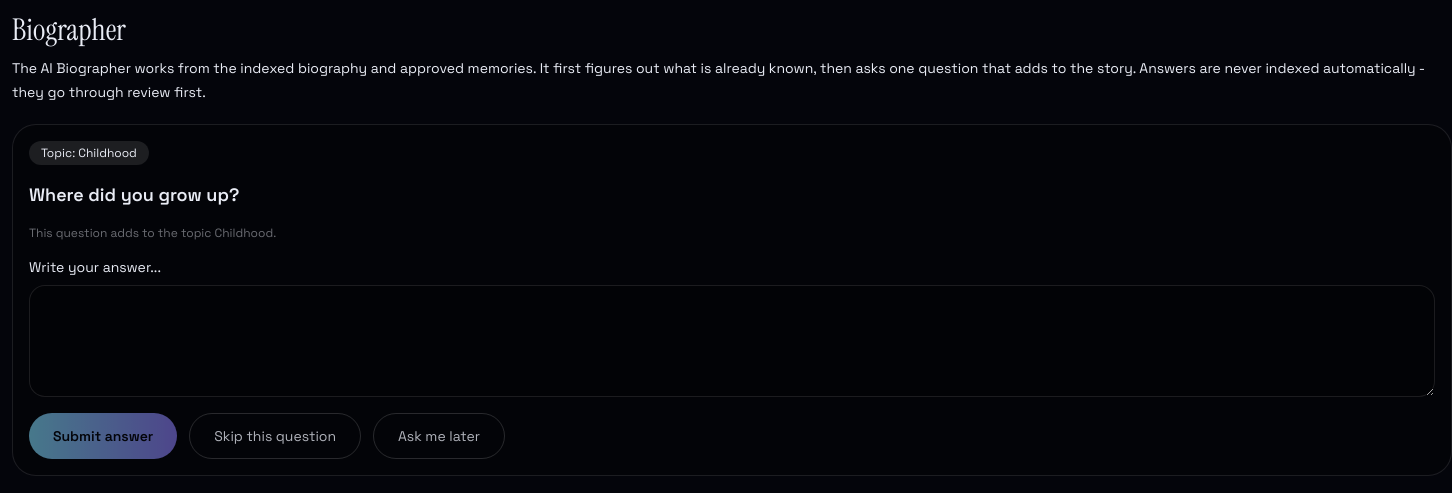
Scenario: BiographerPanel › shows the active question with a localized topic label and lets the owner answer it
This screenshot has width=1452, height=493.
Expected: the text "Where did you grow up?" is shown, [29,183,239,206]
Type "In a small village." into the text box labelled "Write your answer..." at (732, 341), box [29,285,1435,397]
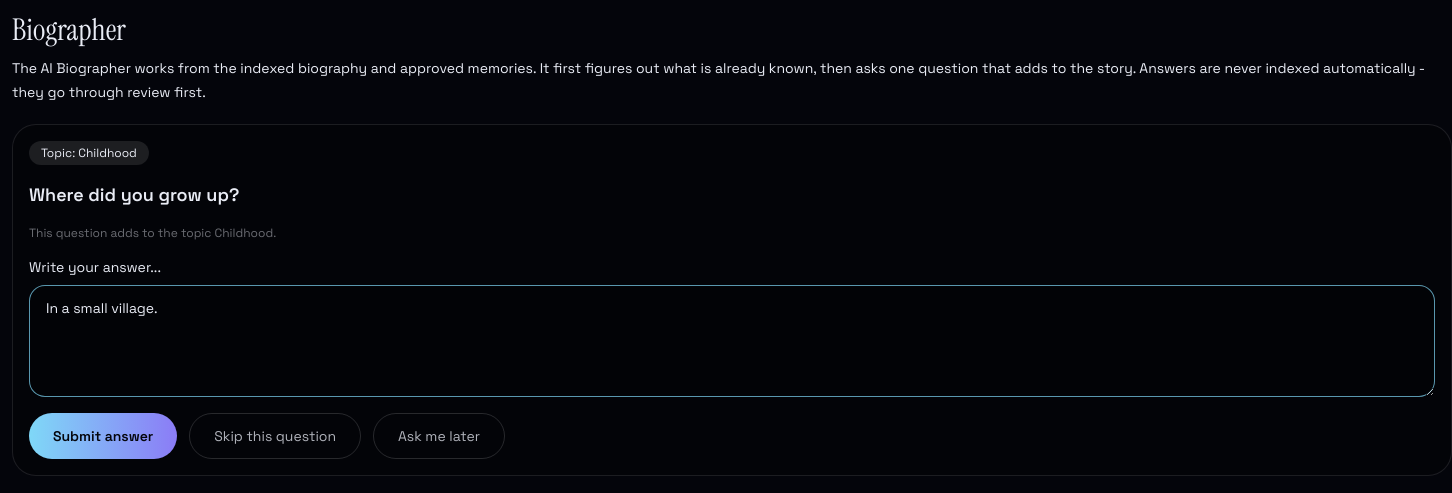
Click the button "Submit answer" at (103, 436), box [29,413,177,459]
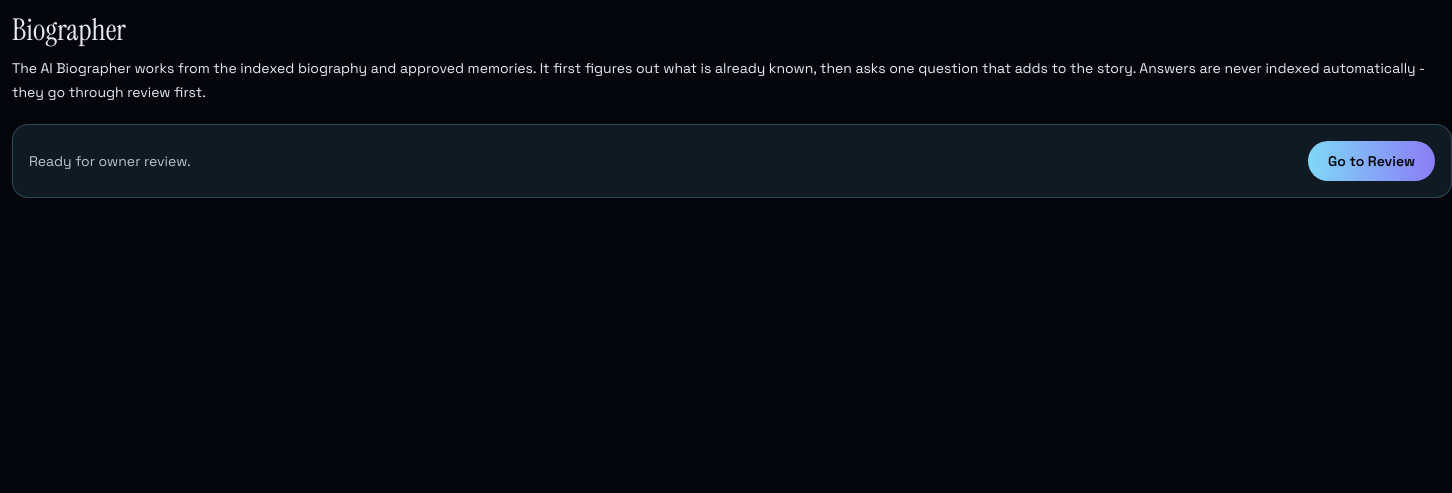
Result: the text "Ready for owner review." is shown at [29,151,190,171]
